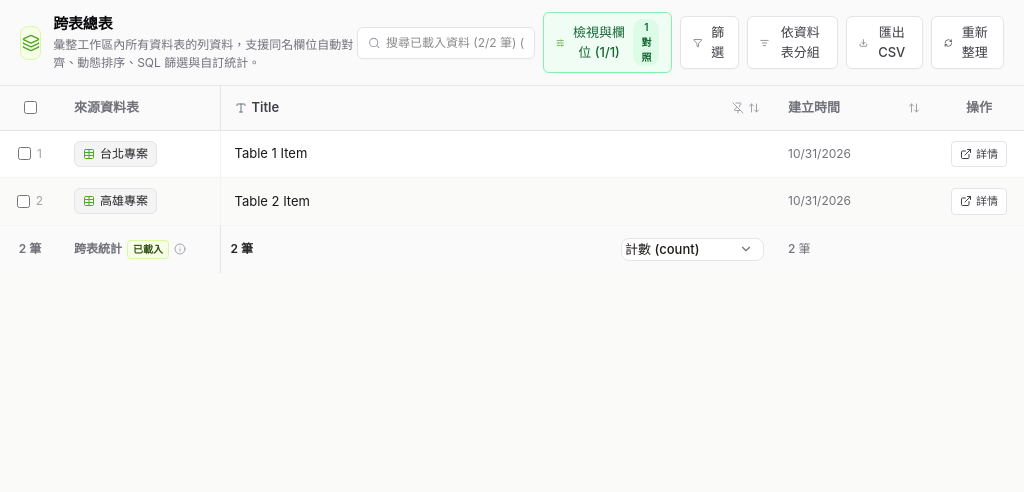
Scenario: MasterGridView UI Component › renders quick table filter chips and filters rows when a table chip is selected
The image size is (1024, 492).
Expected: the text "Table 1 Item" is shown, [234,144,307,164]
Expected: the text "Table 2 Item" is shown, [234,192,310,211]
Note: Open Integrated Dimensions Panel
Step 1. Click the button with test id "toggle-columns-btn" → (608, 42), box [543,12,672,73]
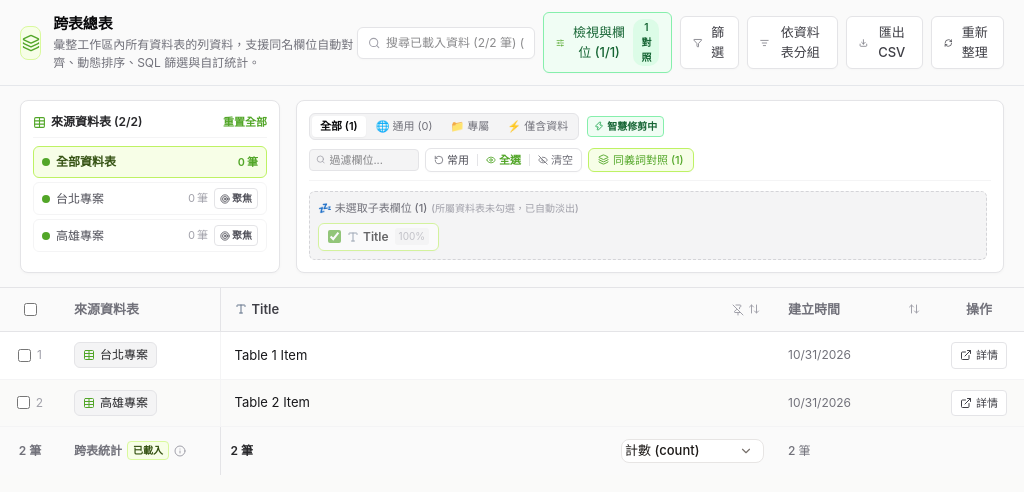
Result: the element with test id "master-columns-bar" is shown at [0,86,1023,288]
Result: the button with test id "table-chip-all" is shown at [33,146,267,178]
Result: the button with test id "table-chip-1" is shown
Note: Filter by Table 1 only
Step 2. Click the button with test id "table-chip-1" → (115, 198), box [42,190,188,208]
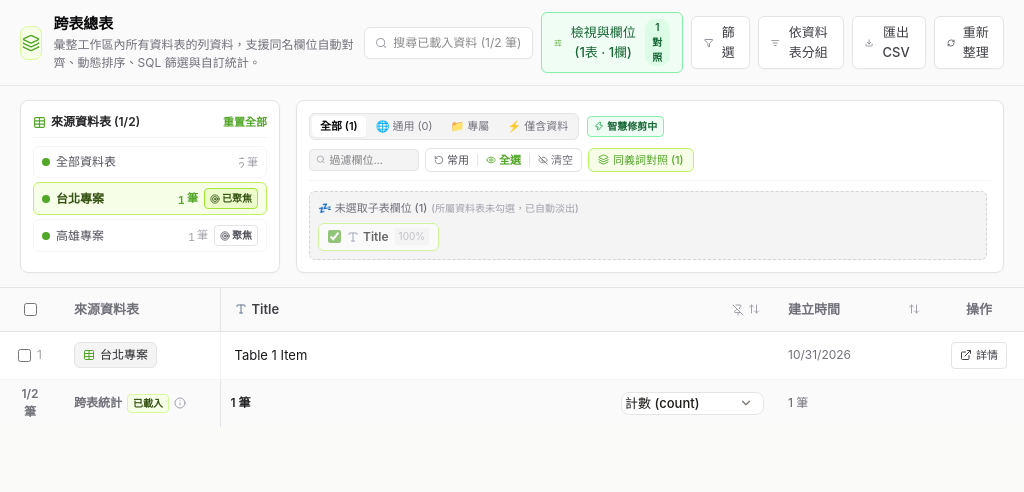
Expected: the text "Table 1 Item" is shown, [234,346,307,365]
Result: the text "Table 2 Item" is gone
Result: the cell with test id "footer-count-cell" reads "1/2 筆" at [21,386,38,419]
Note: Click 'All' chip to reset
Step 3. Click the button with test id "table-chip-all" → (150, 162), box [33,146,267,178]
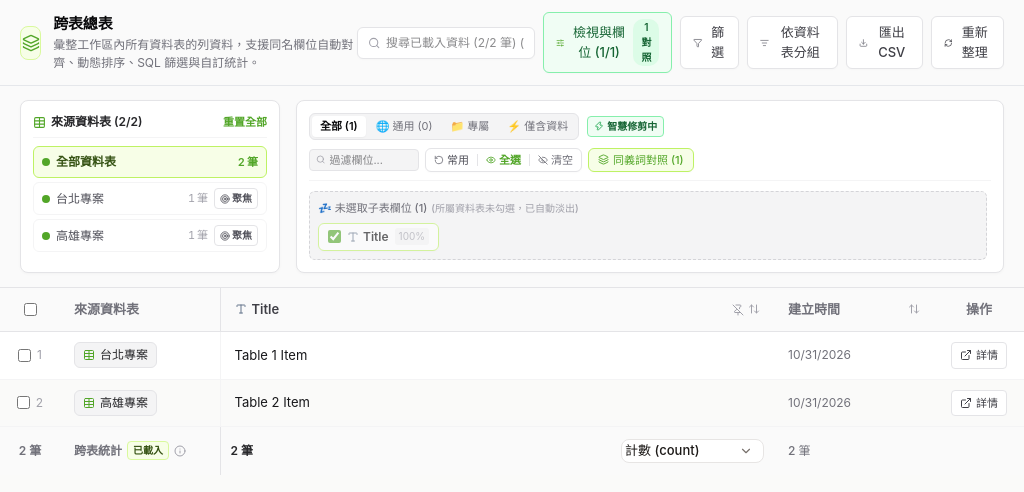
Expected: the text "Table 1 Item" is shown, [234,346,307,365]
Result: the text "Table 2 Item" is shown at [234,393,310,412]
Result: the cell with test id "footer-count-cell" reads "2 筆" at [19,443,41,458]
